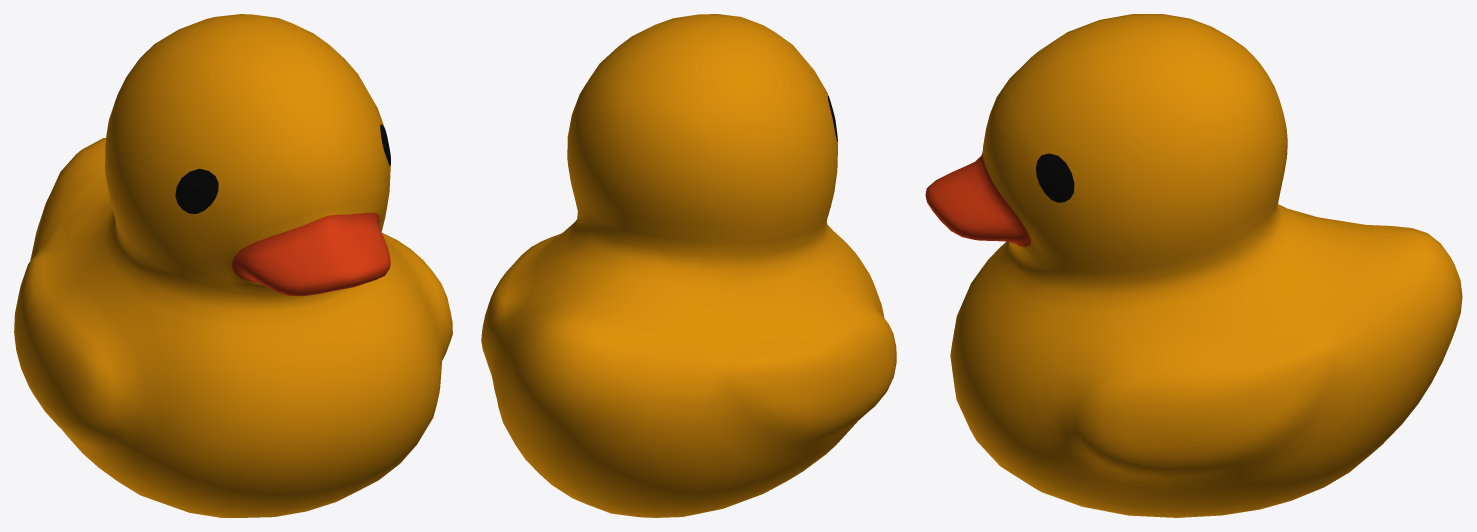
File: Duck.FBX
3 views of the same model, side by side, from view 1: azimuth 30°, elevation 25°; view 2: azimuth 150°, elevation 25°; view 3: azimuth 270°, elevation 25° (orthographic). The views are drawn at different scales.
Parts seen in each view (by area): view 1: Duck; view 2: Duck; view 3: Duck.
Part boxes in pixels (x1=…): Duck: x1=14, y1=14, x2=452, y2=517; Duck: x1=481, y1=14, x2=896, y2=517; Duck: x1=925, y1=14, x2=1462, y2=517.
Bounding box in the file's own units: 5.12 × 6.36 × 6.08.
